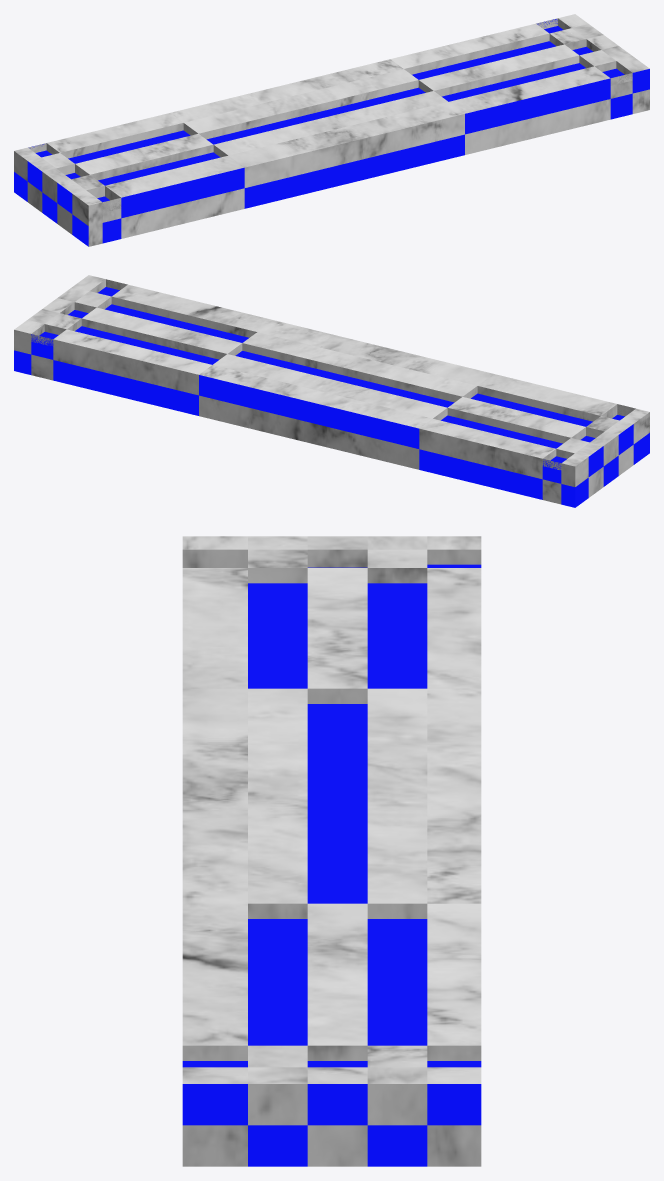
Rendered from PlatformOne.fbx.
3 views of the same model, one above another, from view 1: azimuth 30°, elevation 25°; view 2: azimuth 150°, elevation 25°; view 3: azimuth 270°, elevation 25° (orthographic). The views are drawn at different scales.
Parts seen in each view (by area): view 1: Cube; view 2: Cube; view 3: Cube.
Part boxes in pixels (x1,y1,x2,y2): Cube: (14, 14, 649, 246); Cube: (14, 275, 649, 507); Cube: (182, 536, 481, 1166).
Size of the model in its own units: 867 by 60.99 by 200.
